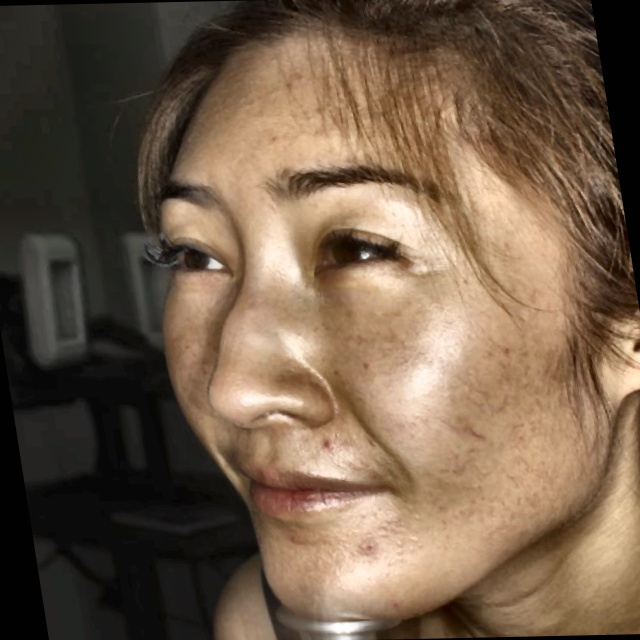comedone: (361, 538, 377, 554), (319, 435, 337, 448)
